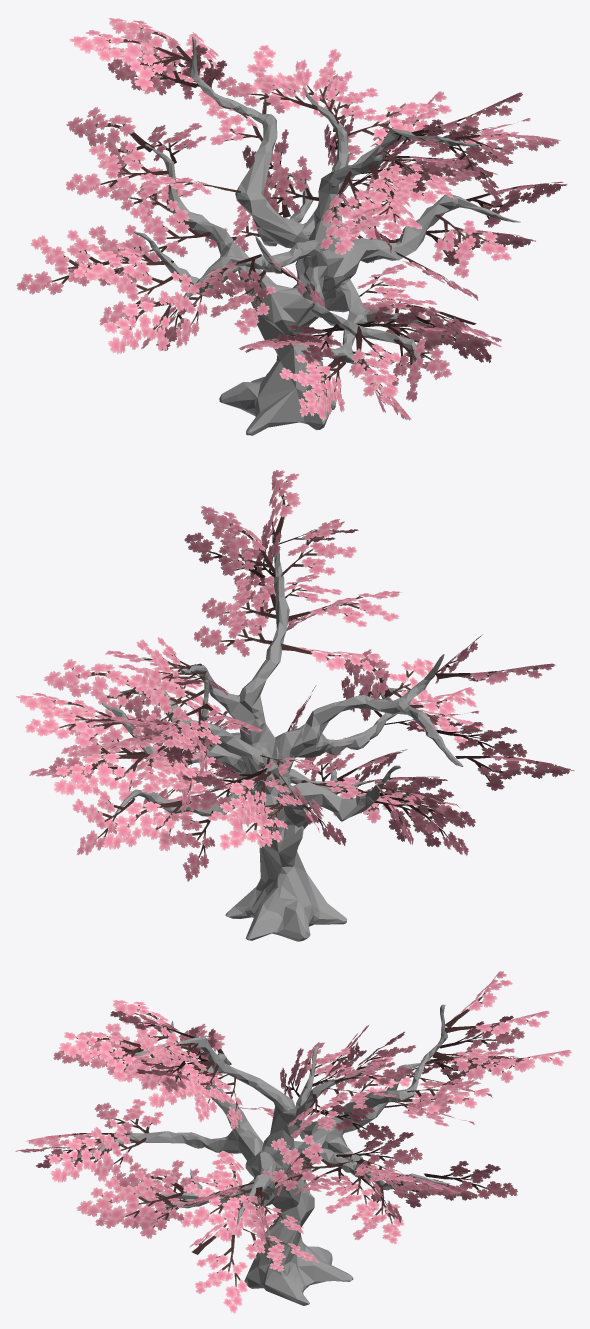
File: SM_SkauraTree_V2.FBX
The picture shows the model from 3 angles, top to bottom: view 1: azimuth 30°, elevation 25°; view 2: azimuth 150°, elevation 25°; view 3: azimuth 270°, elevation 25°; orthographic projection. The views are drawn at different scales.
Visible parts, largest first — view 1: SM_SakuraBranch02, SM_SakuraBranch01, SM_Branch; view 2: SM_SakuraBranch02, SM_SakuraBranch01, SM_Branch; view 3: SM_SakuraBranch02, SM_SakuraBranch01, SM_Branch.
Boxes of the visible parts, left/top/right/bottom form: SM_SakuraBranch02: left=16, top=30, right=530, bottom=417; SM_SakuraBranch01: left=66, top=17, right=567, bottom=420; SM_Branch: left=133, top=36, right=520, bottom=435; SM_SakuraBranch02: left=25, top=519, right=527, bottom=881; SM_SakuraBranch01: left=16, top=470, right=574, bottom=851; SM_Branch: left=102, top=534, right=463, bottom=941; SM_SakuraBranch02: left=15, top=1011, right=524, bottom=1313; SM_SakuraBranch01: left=25, top=971, right=571, bottom=1254; SM_Branch: left=70, top=1004, right=449, bottom=1305.
Size of the model in its own units: 442 by 288 by 481.
